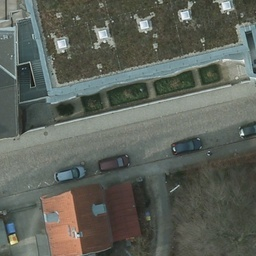car: (99, 151, 129, 175), (170, 135, 202, 157), (55, 164, 84, 185)
